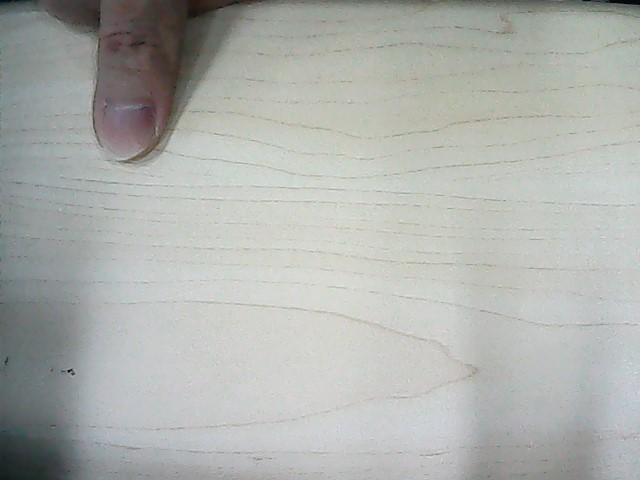nail: (102, 103, 155, 160)
